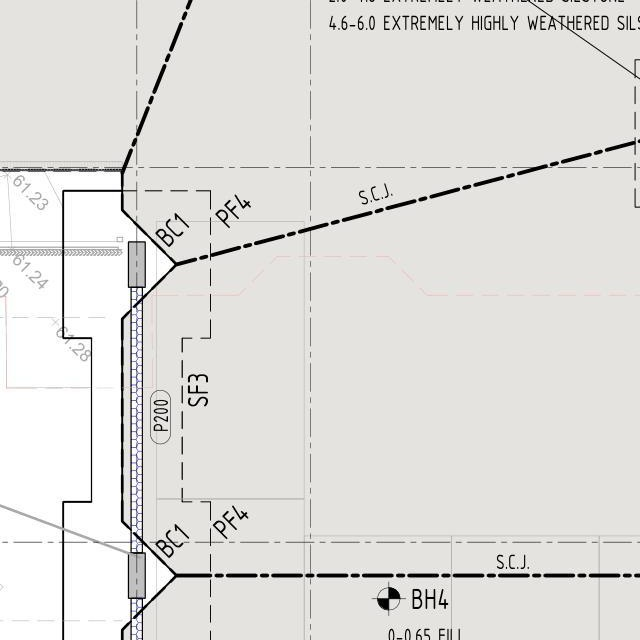BC1: (148, 203, 199, 252), (153, 521, 194, 562)
BH4: (411, 579, 458, 622)
PF4: (205, 491, 260, 547), (216, 187, 263, 230)
SF3: (178, 357, 222, 408)
